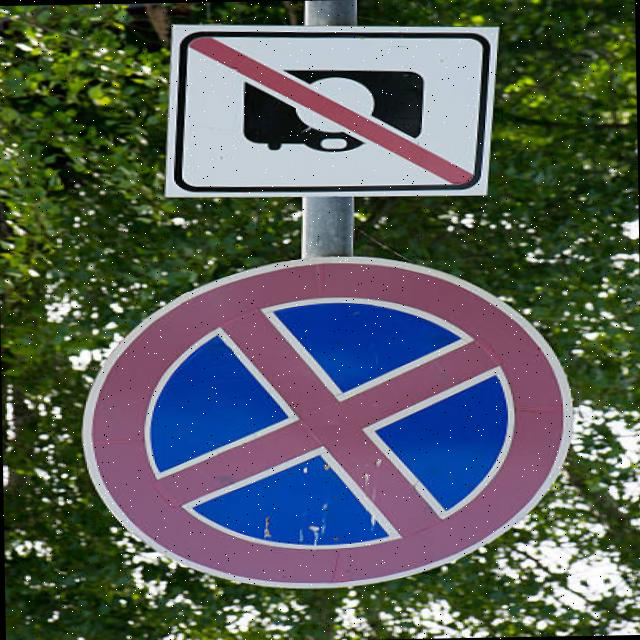no_parking: (59, 249, 624, 592)
